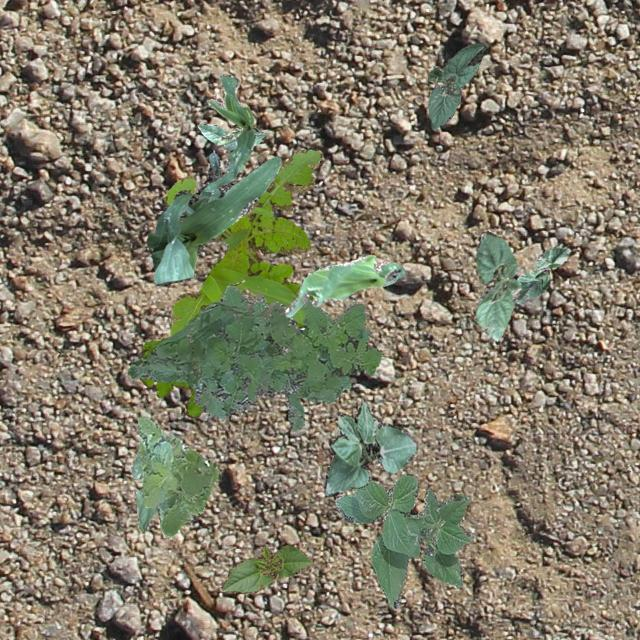crop: (334, 472, 474, 608), (147, 150, 280, 284), (322, 398, 416, 496), (284, 254, 404, 316), (204, 74, 254, 190), (474, 230, 520, 340), (426, 43, 484, 128), (220, 544, 312, 592), (516, 245, 568, 302), (130, 448, 156, 530), (197, 122, 266, 144)
weed: (126, 284, 382, 431), (162, 148, 320, 334), (136, 416, 218, 536), (138, 338, 202, 418)
